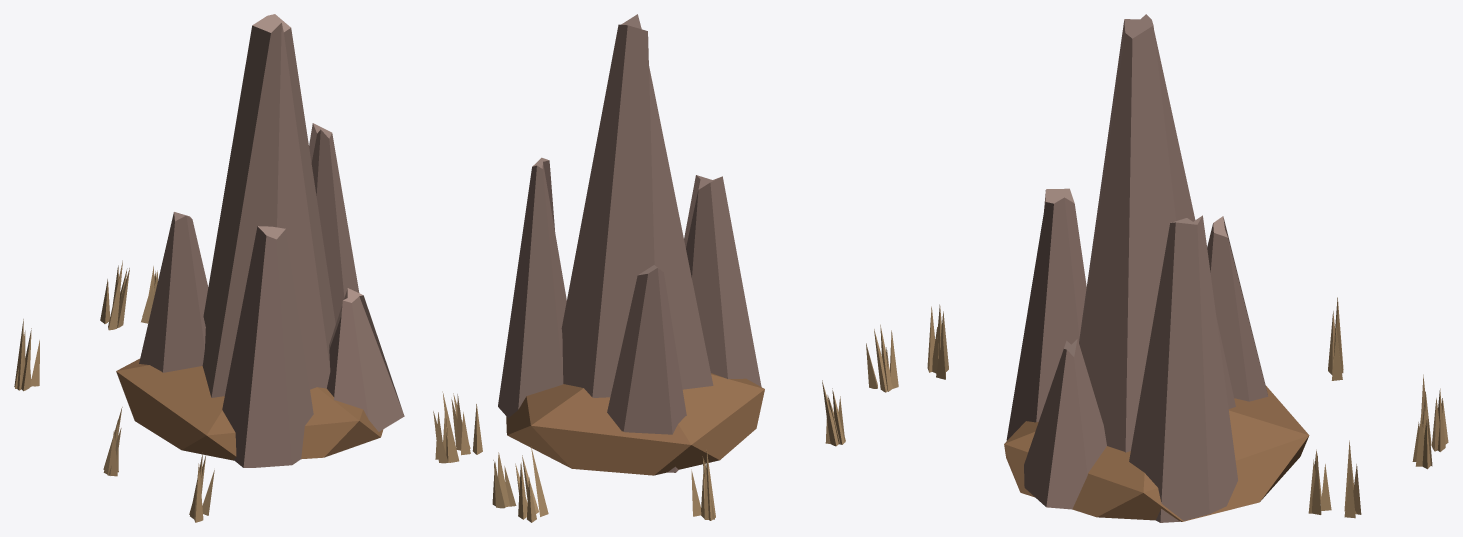
The model's file is lair-termite-mound.glb.
3 renders of one model, left to right at view 1: azimuth 30°, elevation 25°; view 2: azimuth 150°, elevation 25°; view 3: azimuth 270°, elevation 25°, orthographic. The views are drawn at different scales.
Visible parts, largest first — view 1: lair-termite-mound; view 2: lair-termite-mound; view 3: lair-termite-mound.
Boxes of the visible parts, left/top/right/bottom form: lair-termite-mound: left=14, top=14, right=404, bottom=522; lair-termite-mound: left=433, top=14, right=898, bottom=522; lair-termite-mound: left=927, top=14, right=1448, bottom=522.
Size of the model in its own units: 2.91 by 3.67 by 3.9.
